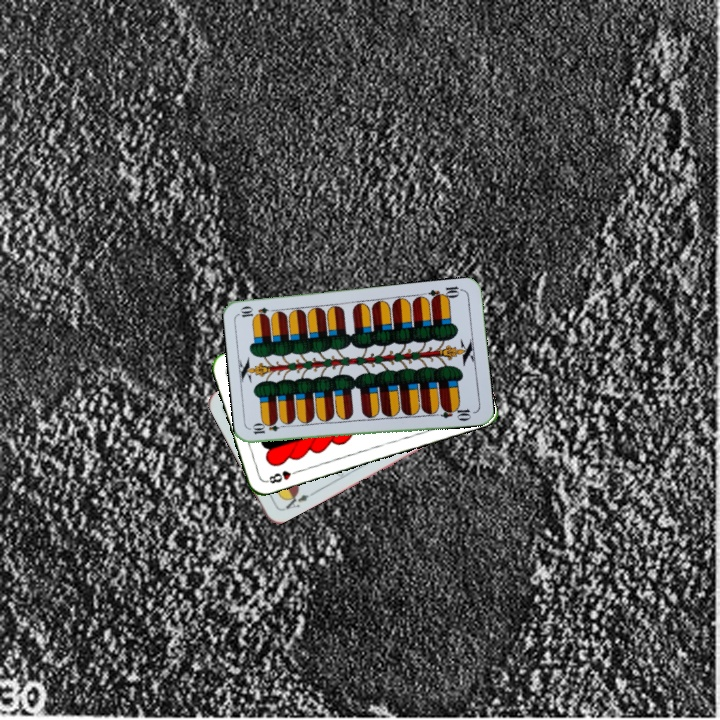E10: (425, 282, 465, 304), (249, 420, 289, 437)
EA: (279, 488, 316, 513)
H8: (262, 466, 302, 486)
